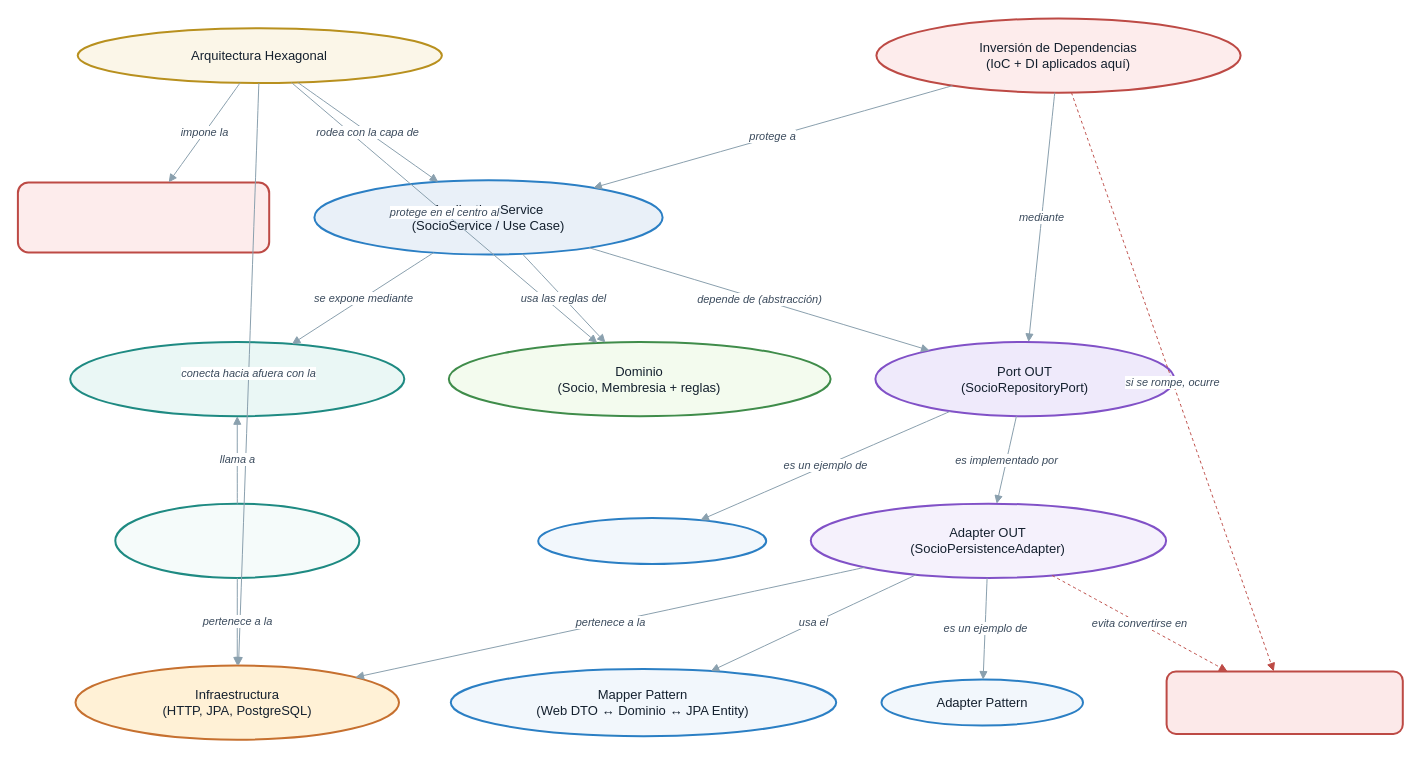
Image size: 1421x758. Some labels were removed from this diagram. The shapes that lost their labels are listed below. From the top down, each one's centre as x and y in pixels, then its label:
At [143,217]: "Regla de dirección: las dependencias apuntan SIEMPRE hacia el núcleo".
At [237,378]: "Port IN (RegistrarSocioUseCase)".
At [237,540]: "Adapter IN (SocioController)".
At [652,540]: "Repository Pattern".
At [1284,702]: "✗ Controller inyectando SpringDataRepository directo = diseño incorrecto".
